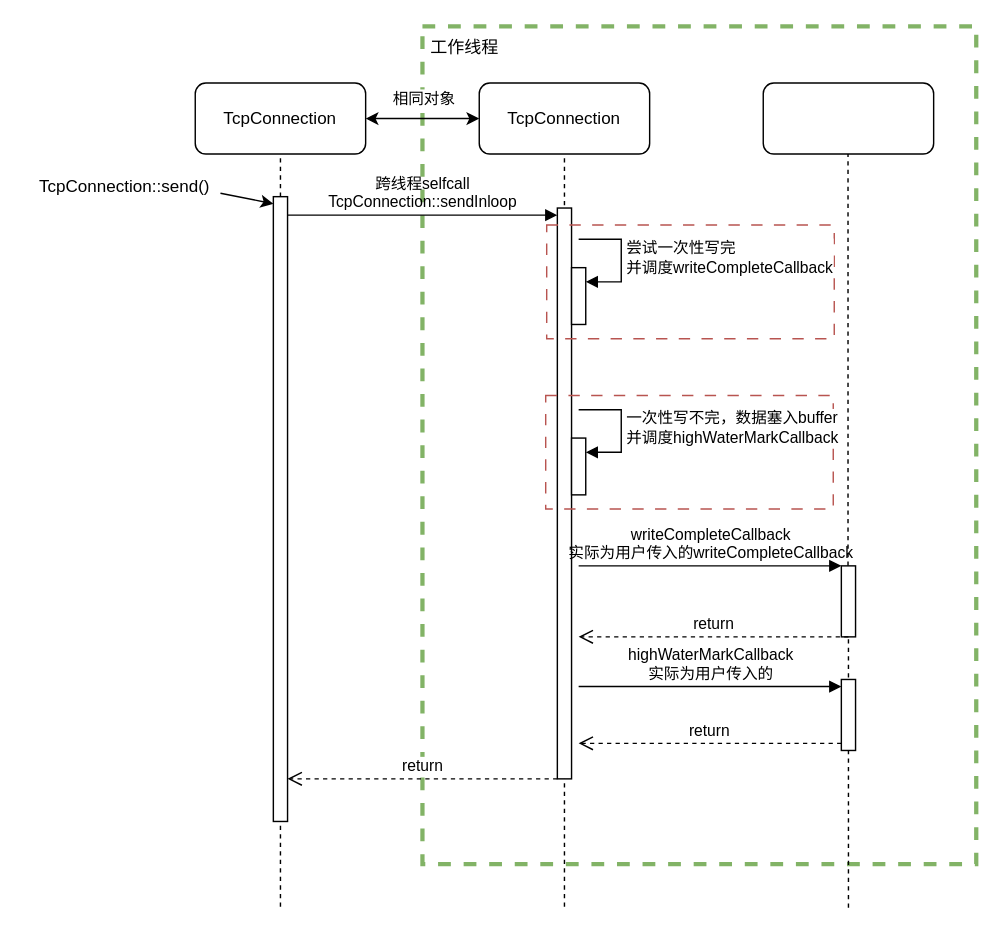
Some shapes in this 1003 by 934 pixel diagram are drawn without their labels. The box of each missing label's shape, as (x1, y1, x2, y2) in pixels:
TcpServer: (762, 82, 934, 154)
注册Channel写事件 当系统缓冲区有空间时会通知channel: (544, 394, 833, 509)
